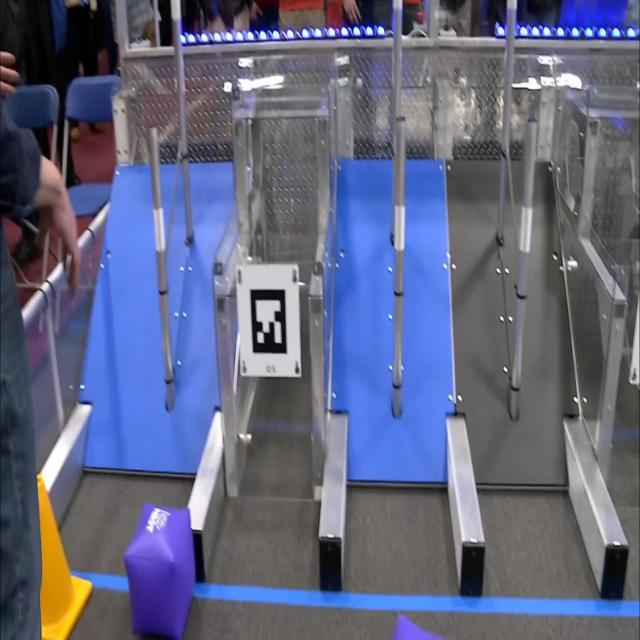frc_cone: (30, 472, 91, 640)
frc_cube: (126, 501, 194, 640), (387, 610, 447, 640)
